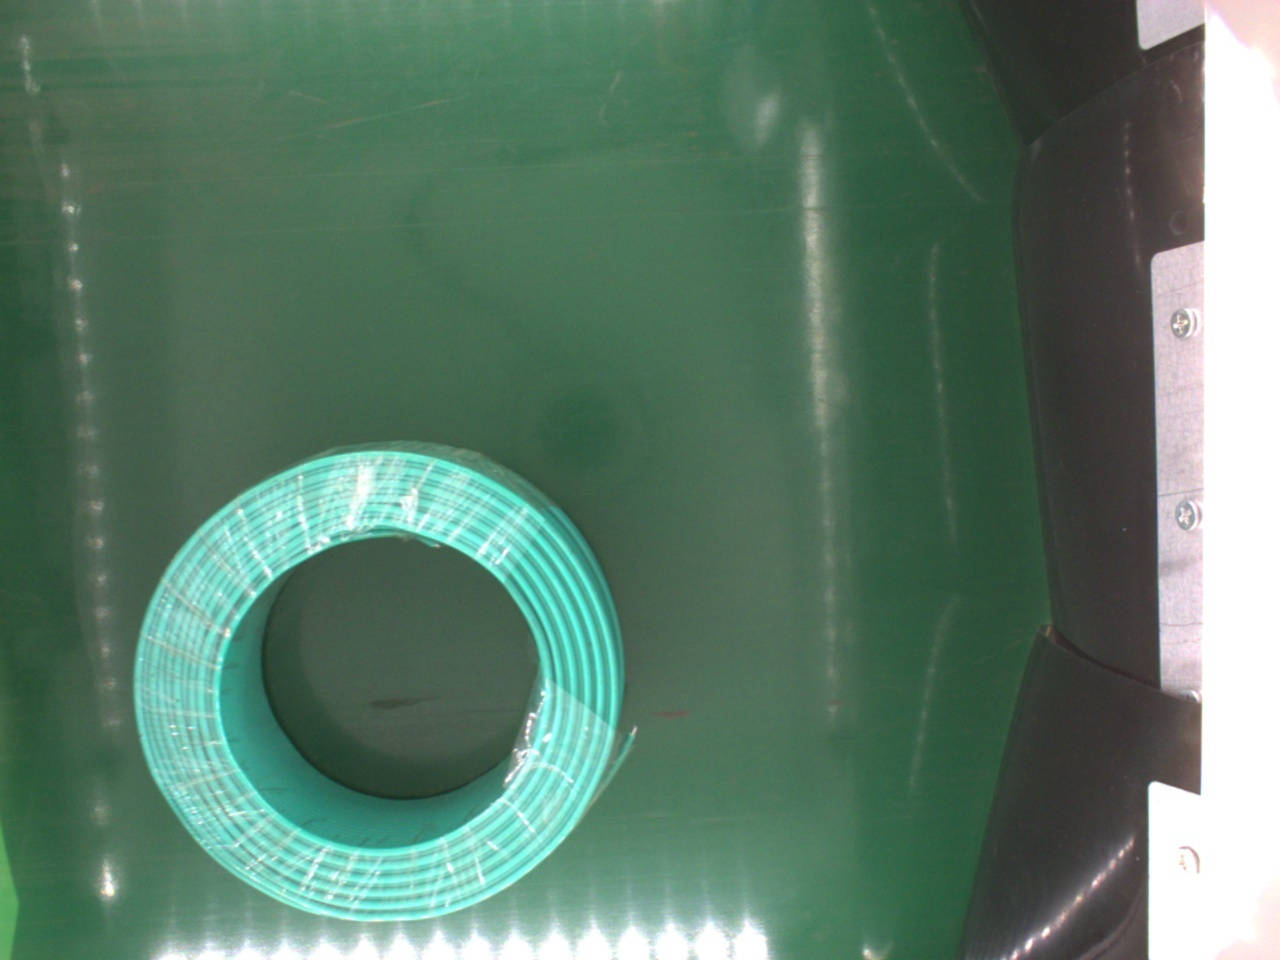green: (133, 446, 629, 934)
